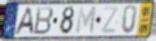0: (121, 4, 138, 36)
8: (58, 5, 74, 36)
A: (13, 7, 36, 36)
B: (32, 6, 54, 36)
M: (75, 6, 97, 36)
Z: (100, 6, 121, 35)
